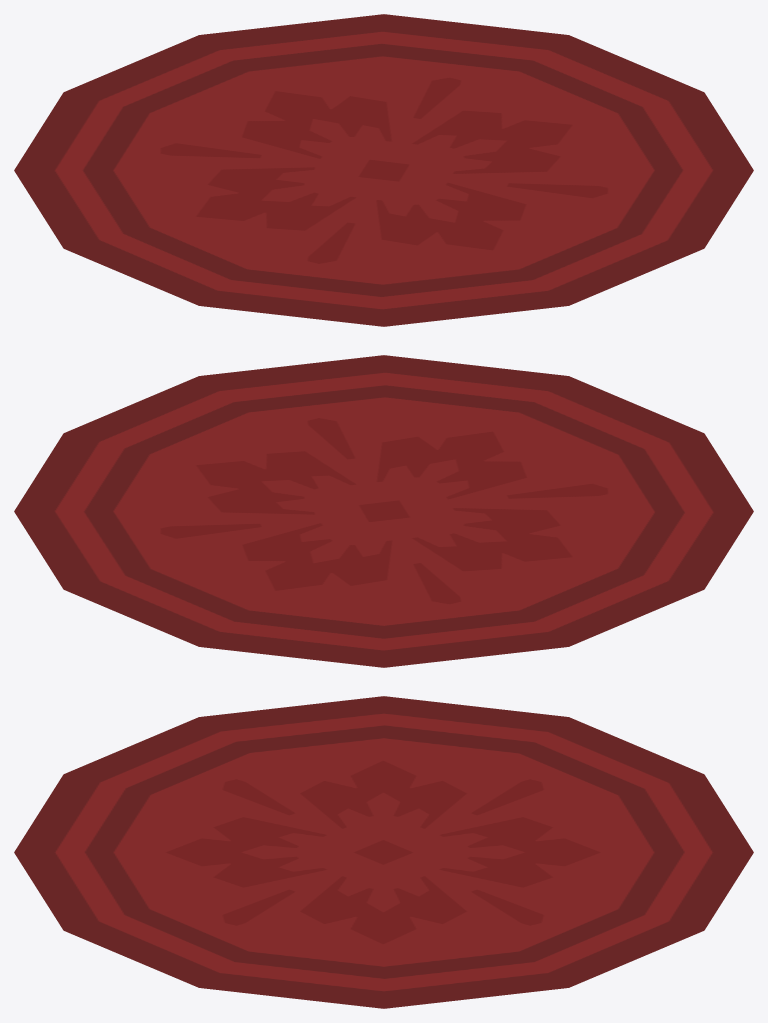
Rendered from Carpet 02.fbx.
3 renders of one model, top to bottom at view 1: azimuth 30°, elevation 25°; view 2: azimuth 150°, elevation 25°; view 3: azimuth 270°, elevation 25°, orthographic.
Visible parts, largest first — view 1: Carpet_02; view 2: Carpet_02; view 3: Carpet_02.
Boxes of the visible parts, bbox=[...] form: Carpet_02: bbox=[14, 14, 753, 326]; Carpet_02: bbox=[14, 355, 753, 667]; Carpet_02: bbox=[14, 696, 753, 1008].
Size of the model in its own units: 422 by 0 by 422.
